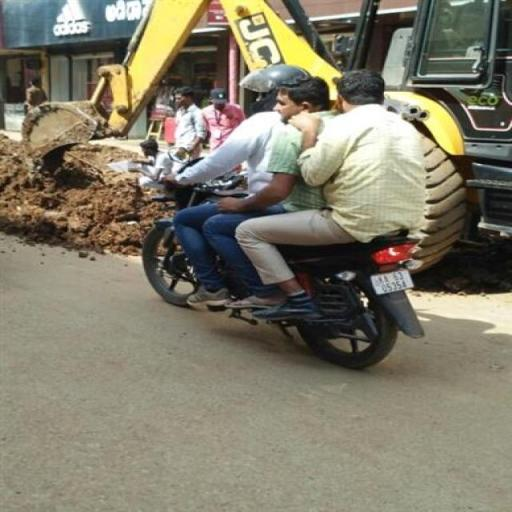tripple riding: (143, 65, 456, 211)
